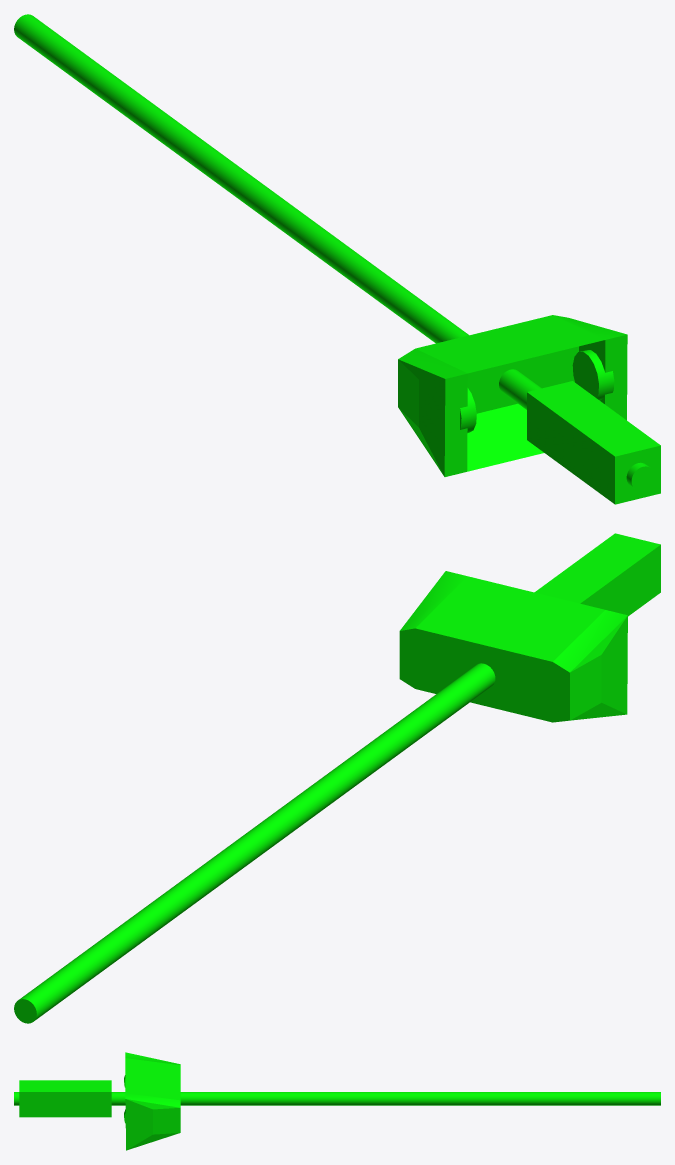
Rendered from Gun.fbx.
3 views of the same model, one above another, from view 1: azimuth 30°, elevation 25°; view 2: azimuth 150°, elevation 25°; view 3: azimuth 270°, elevation 25° (orthographic). The views are drawn at different scales.
Visible parts, largest first — view 1: Mantlet, Barrel, Breach, Cylinder_001; view 2: Mantlet, Barrel, Breach; view 3: Barrel, Mantlet, Breach.
Boxes of the visible parts, box(x1,y1,x2,y2) form: Mantlet: box(398, 315, 627, 476); Barrel: box(14, 14, 654, 490); Breach: box(527, 381, 660, 504); Cylinder_001: box(572, 350, 614, 400); Mantlet: box(399, 571, 627, 722); Barrel: box(14, 663, 495, 1023); Breach: box(534, 533, 660, 616); Barrel: box(14, 1092, 660, 1105); Mantlet: box(125, 1052, 180, 1150); Breach: box(19, 1080, 111, 1117).
Size of the model in its own units: 119 by 61.77 by 700.
